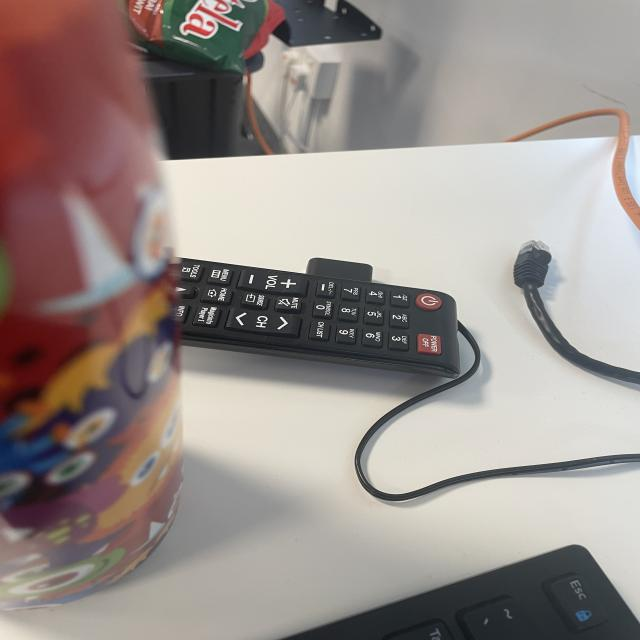remote: (170, 253, 464, 381)
